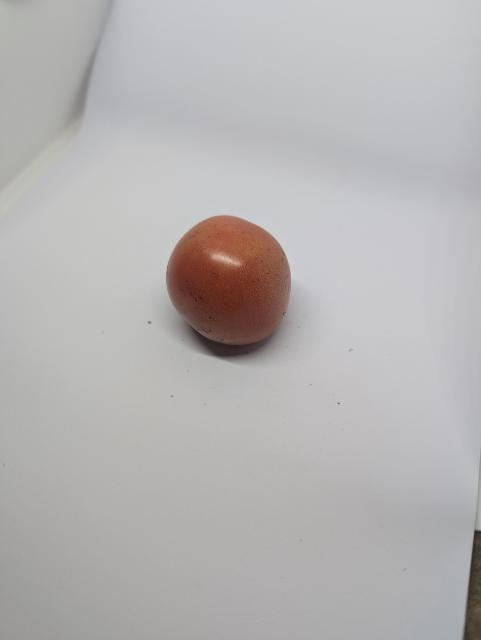red: (155, 200, 316, 368)
